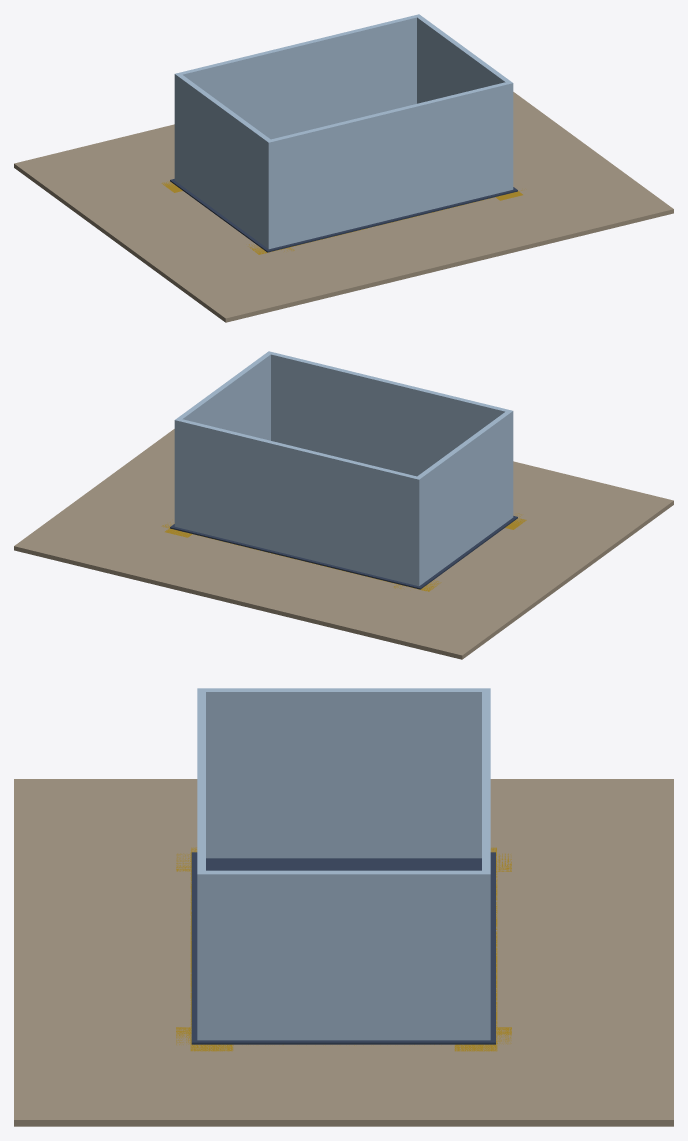
Rendered from stage_06_walls.glb.
The picture shows the model from 3 angles, top to bottom: view 1: azimuth 30°, elevation 25°; view 2: azimuth 150°, elevation 25°; view 3: azimuth 270°, elevation 25°; orthographic projection. The views are drawn at different scales.
Parts seen in each view (by area): view 1: world; view 2: world; view 3: world.
Boxes of the visible parts, <box> form: world: <box>14,14,673,322</box>; world: <box>14,351,673,659</box>; world: <box>14,688,673,1126</box>.
Bounding box in the file's own units: 11 × 3.33 × 9.
